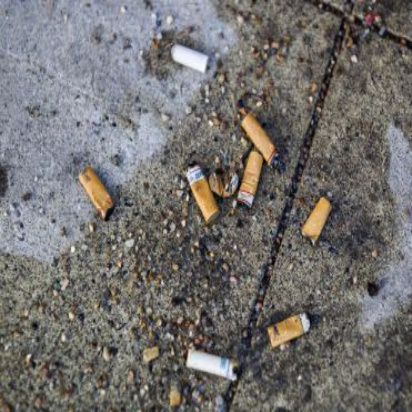cigarette: (184, 162, 225, 230), (236, 109, 285, 164), (182, 345, 243, 389), (74, 166, 124, 219), (299, 191, 337, 252), (234, 146, 263, 209), (265, 311, 313, 348), (163, 45, 211, 79)
